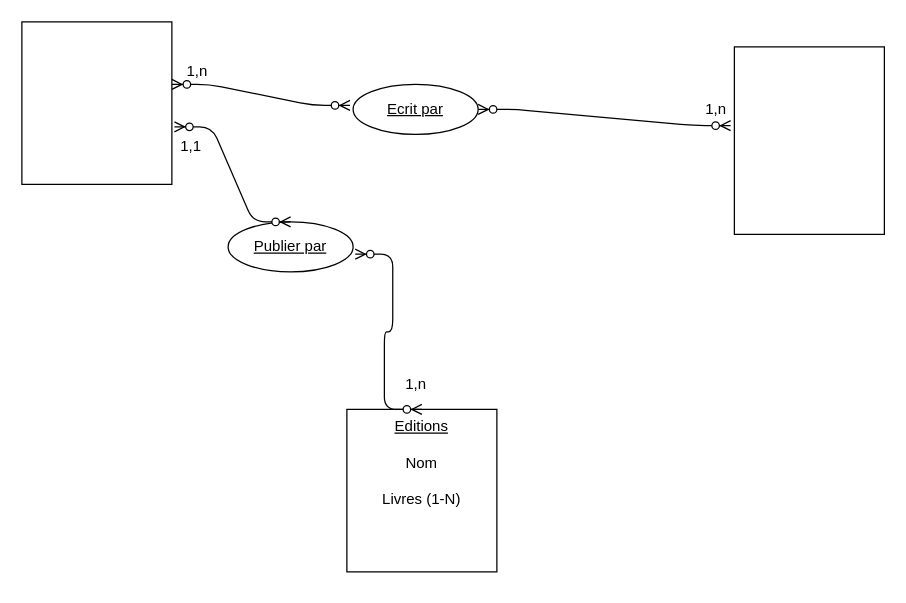
This 906x603 diagram has some shape labels left out. The shapes that lost their labels are listed below. From the top down, each one's centre as x and y in pixels, then its label:
point 96,102: Livres Auteur (1-N) Titre Editions (1-1)
point 808,140: Auteurs Nom Prenom Livres(1-N)
